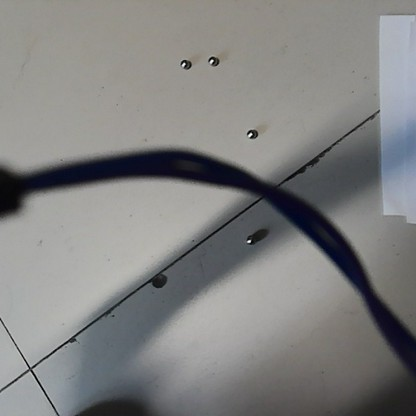ironball: (179, 59, 189, 70), (207, 55, 217, 65), (246, 128, 255, 138), (245, 236, 253, 244)
